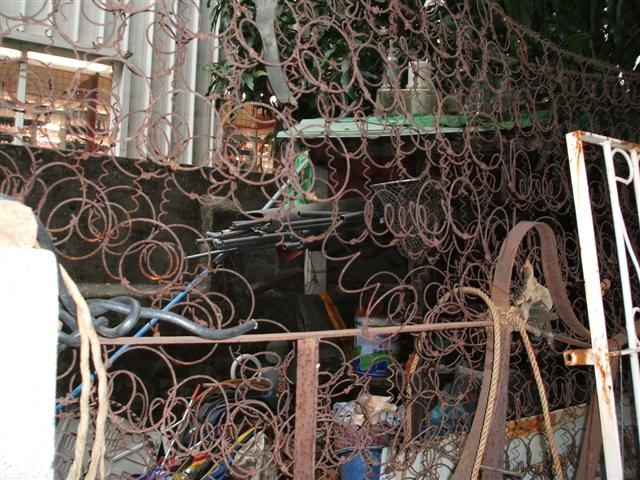bucket: (353, 313, 402, 379)
